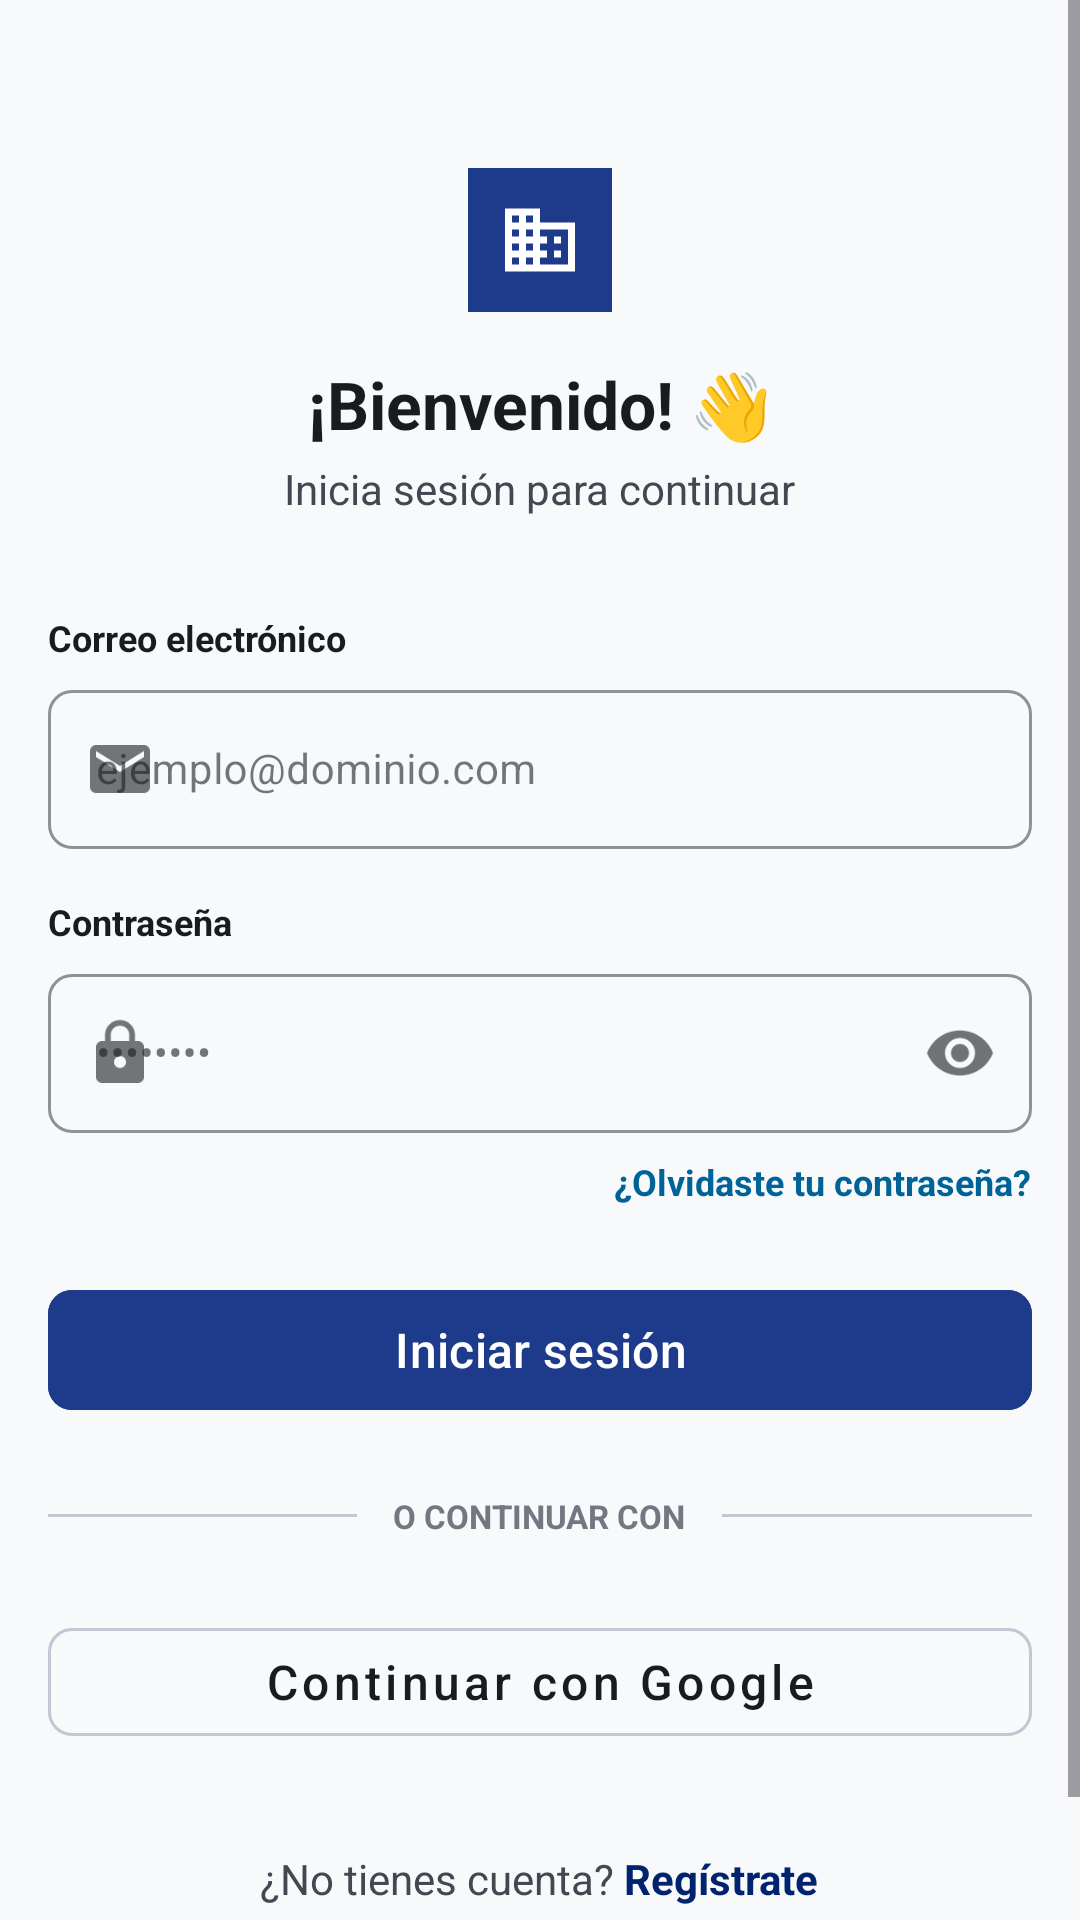

Icon click points for this 1080×1920 phone screenshot, format [x,y]:
Icono Dominio: [540,240]
